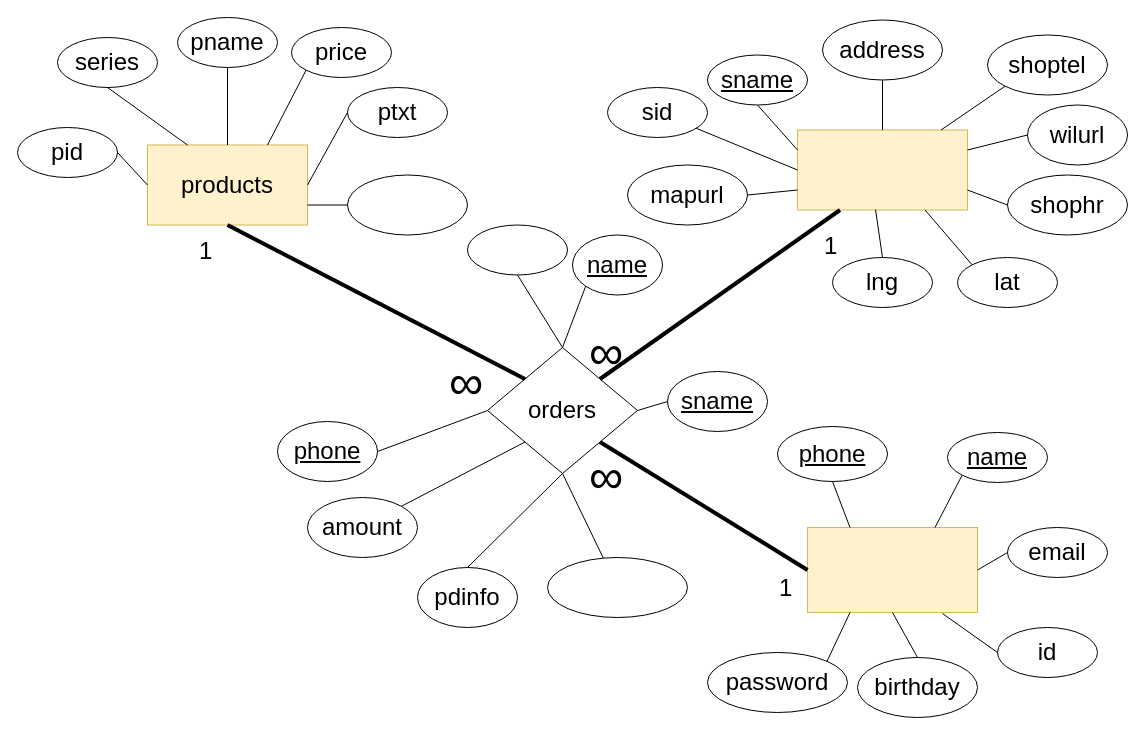
Some shapes in this 1145 by 735 pixel diagram are drawn without their labels. The shapes that lost their labels are listed below. From the top down, each one's box as (x1, y1, x2, y2) in pixels, then its label:
(796, 129, 968, 210): shops
(346, 174, 468, 235): imgpath
(466, 224, 568, 275): oid
(546, 556, 688, 618): createdate
(806, 526, 978, 612): users
